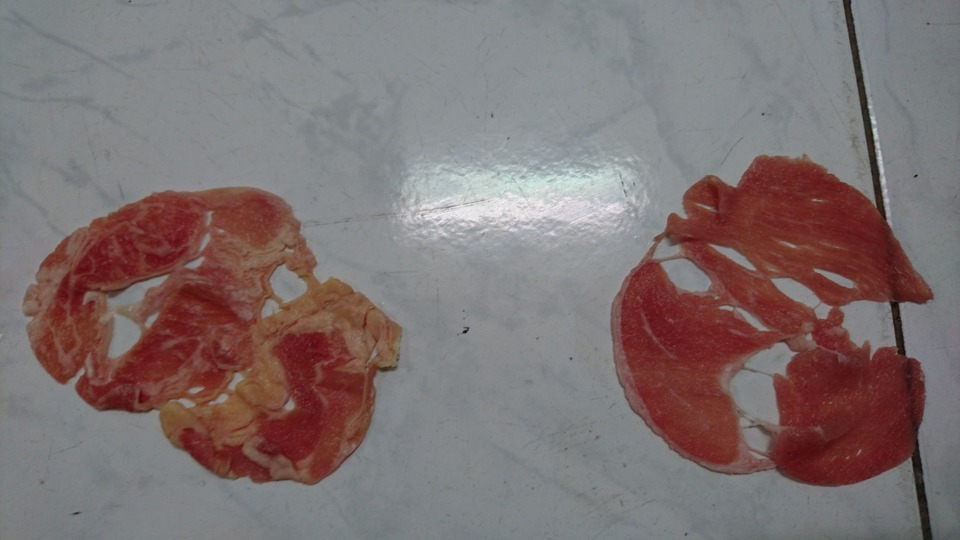restructured meat: (7, 187, 430, 482), (579, 165, 944, 488)
